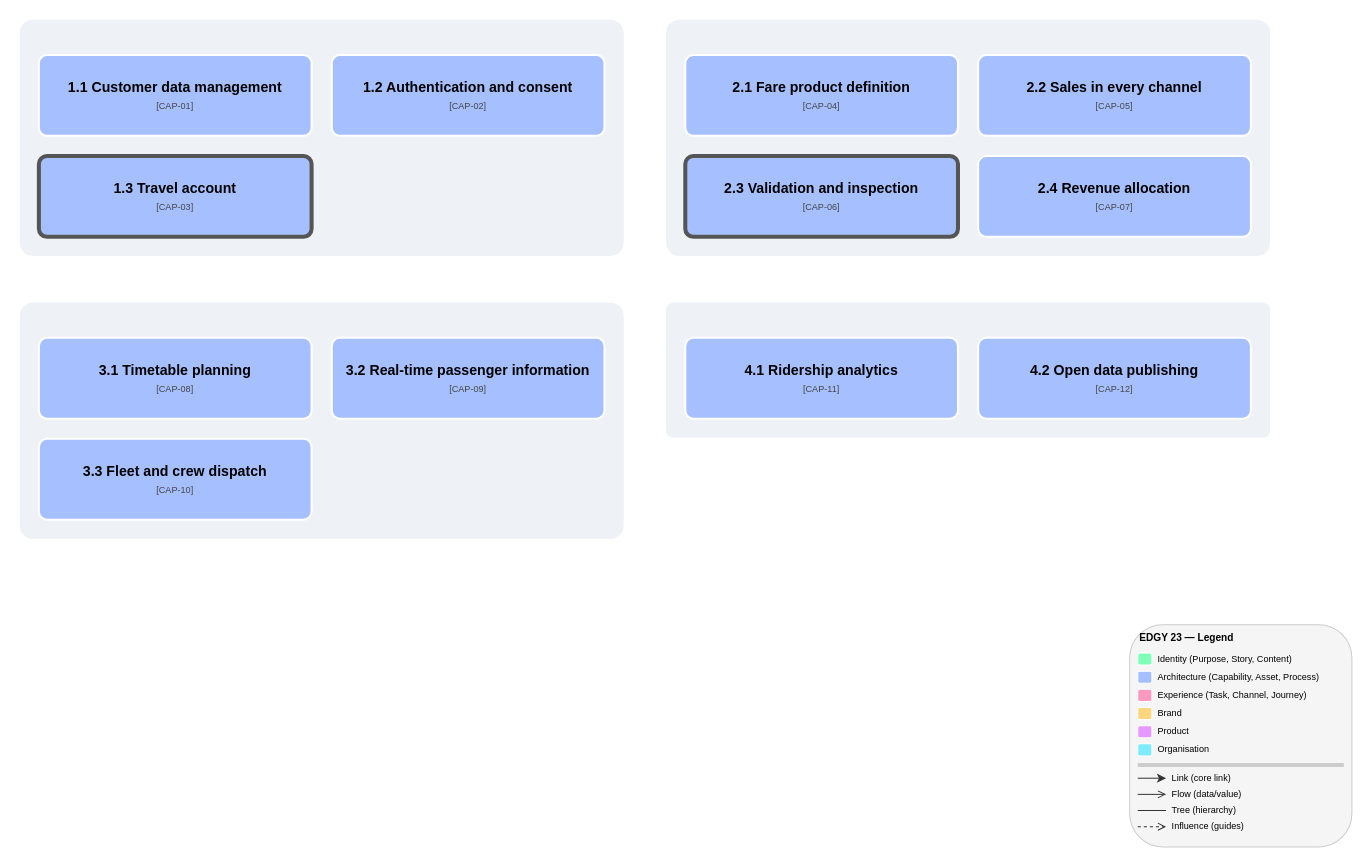
The diagram is 1370 pixels wide and 865 high, and some of its shapes have lost their labels. Each missing label, with the box of its shape:
1 Customer and identity: (17, 17, 625, 258)
2 Fares and ticketing: (664, 17, 1272, 258)
3 Planning and operations: (17, 300, 625, 540)
4 Data and analytics: (664, 300, 1272, 439)
